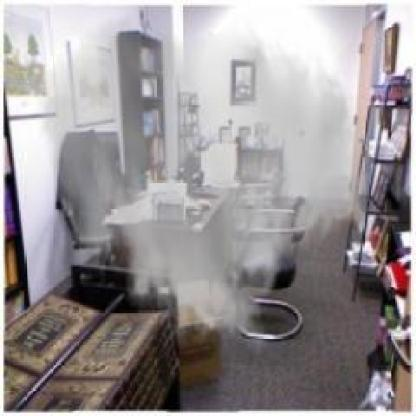Smoke: (34, 9, 375, 355)
